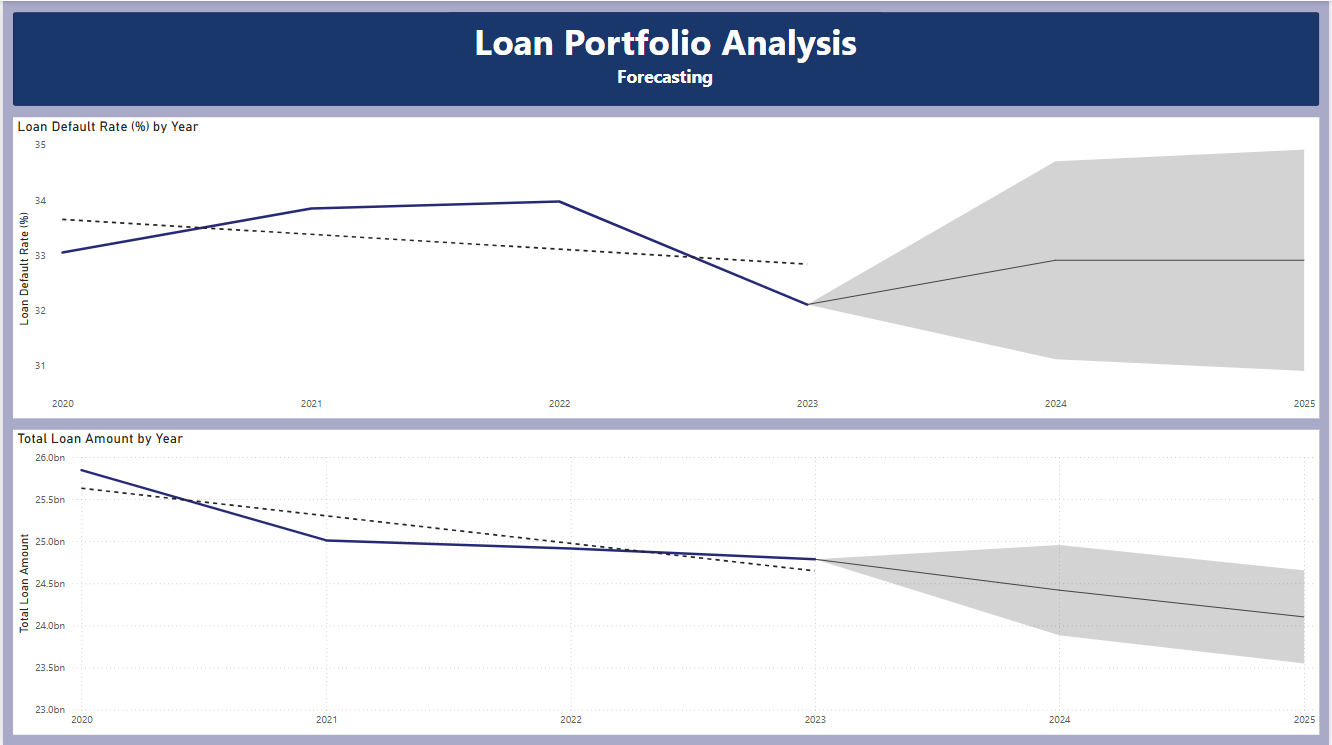

The dashboard page shown, as its layout file describes it:
{"tool":"powerbi","page":{"name":"Dashboard (Forcasting)","canvas":[1600,900],"ordinal":1},"visuals":[{"type":"shape","box":[12.1,13.6,1575.9,113.1],"z":0},{"type":"textbox","box":[538.4,13.6,521.8,82.9],"z":1000},{"type":"textbox","box":[713.3,70.9,170.4,40.7],"z":2000},{"type":"lineChart","fields":{"Category":["Loans.Start_Date.Variation.Date Hierarchy.Year"],"Y":["Loans.Loan Default Rate (%)"]},"box":[12.1,140.2,1575.9,363.4],"z":3000},{"type":"lineChart","fields":{"Category":["Loans.Start_Date.Variation.Date Hierarchy.Year"],"Y":["Loans.Total Loan Amount"]},"box":[12.1,517.3,1575.9,368],"z":4000}]}

Visuals, with their boxes in screenshot pixels (x1, y1, x2, y2), scaled from the page's 1600x900 canvas onto the 1332x745 screenshot:
shape: BBox(10, 11, 1322, 105)
textbox: BBox(448, 11, 883, 80)
textbox: BBox(594, 59, 736, 92)
lineChart - Loans.Start_Date.Variation.Date Hierarchy.Year x Loans.Loan Default Rate (%): BBox(10, 116, 1322, 417)
lineChart - Loans.Start_Date.Variation.Date Hierarchy.Year x Loans.Total Loan Amount: BBox(10, 428, 1322, 733)
